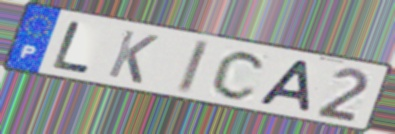2: (315, 65, 372, 124)
A: (254, 58, 313, 114)
C: (209, 49, 269, 102)
I: (174, 37, 213, 96)
K: (104, 27, 161, 86)
L: (49, 19, 94, 76)
